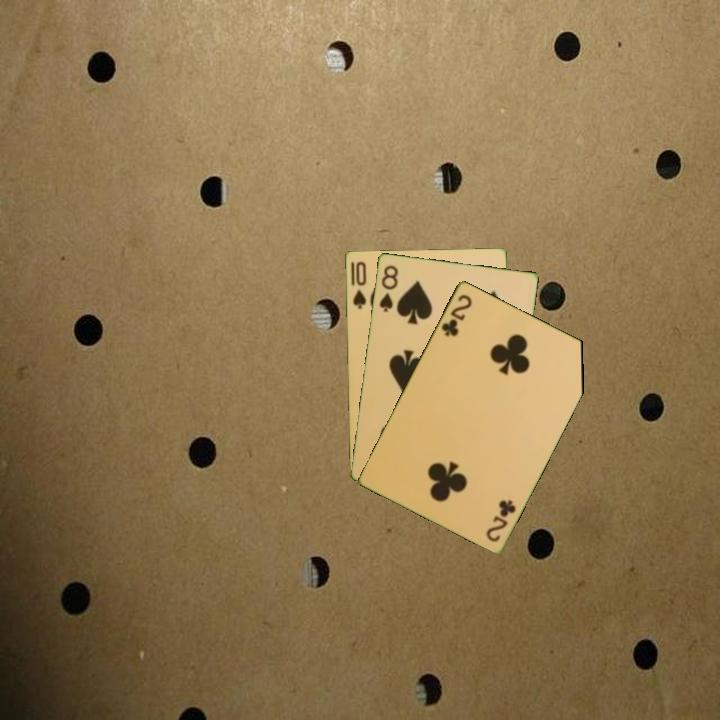10s: (349, 258, 368, 311)
2c: (437, 290, 475, 339), (482, 496, 519, 544)
8s: (375, 261, 401, 315)
